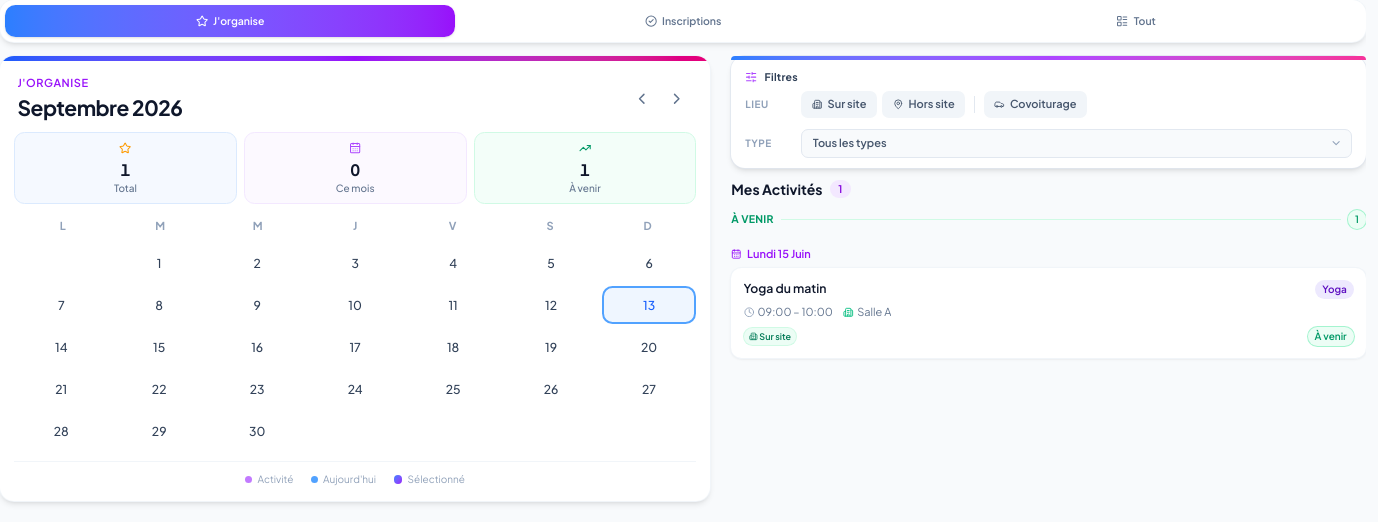
Test: PlanningPage › efface les sous-filtres via Tout effacer
Expected: the heading "Yoga du matin" is shown, [744,280,826,297]
Click the button "Sur site". click: (839, 104)
box: [801,91,877,118]
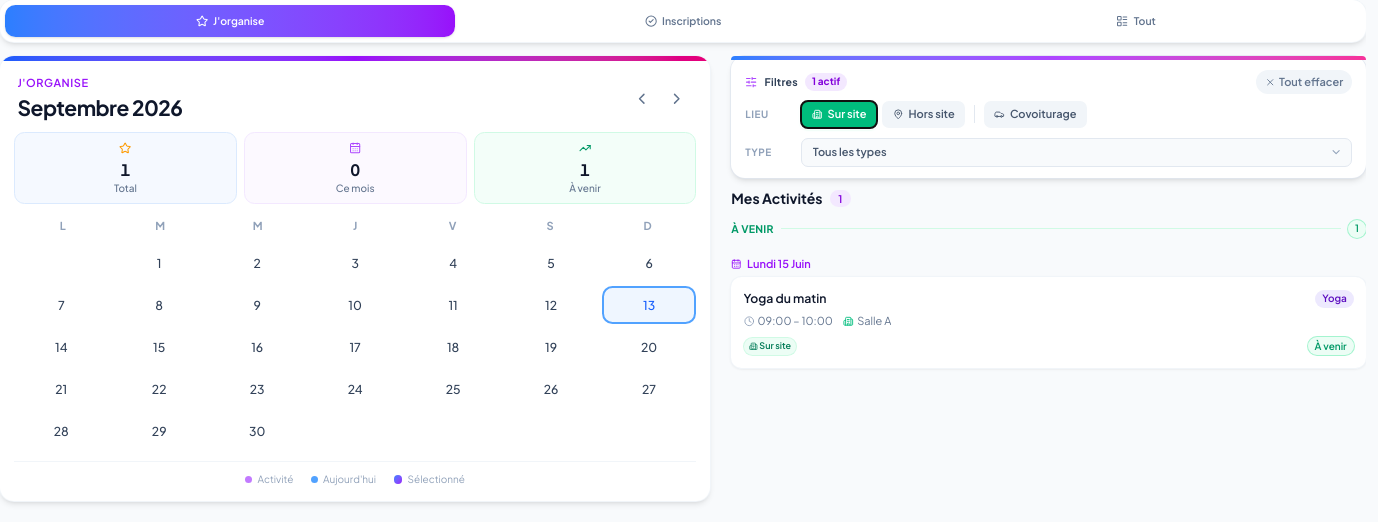
Click the button "Tout effacer". click: (1304, 82)
box: [1256,70,1352,94]
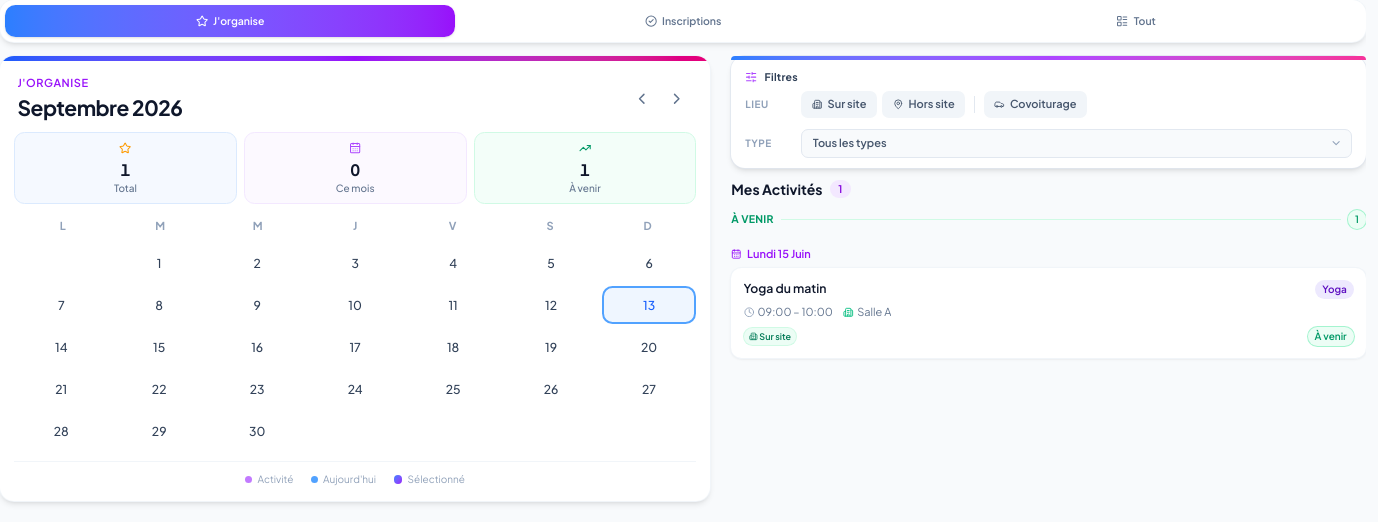
Expected: the button "Tout effacer" is gone
